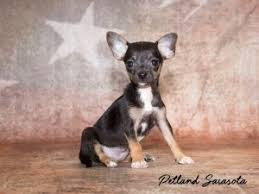chihuahua: (77, 32, 190, 170)
